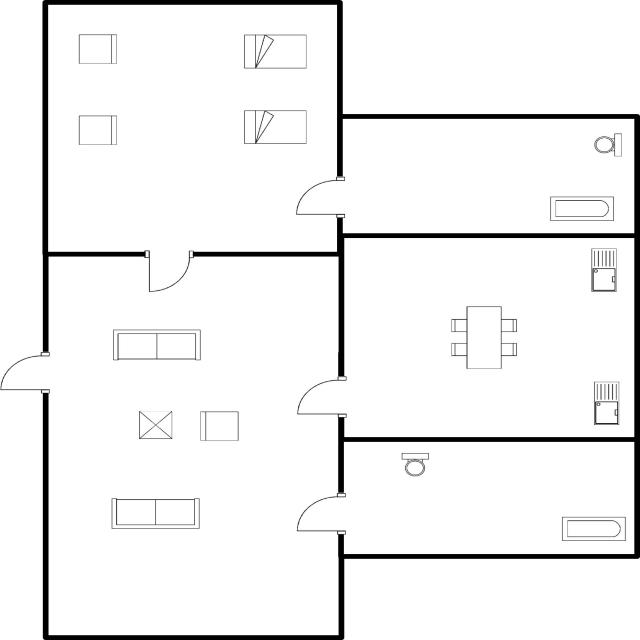bed: (238, 106, 314, 148), (240, 30, 311, 74)
coffee_table: (135, 406, 178, 443)
dining_table: (442, 301, 521, 372)
large_sink: (395, 448, 432, 481), (590, 128, 626, 160)
large_sofa: (106, 324, 206, 366), (103, 494, 204, 534), (73, 30, 122, 70), (74, 111, 121, 149)
sink: (587, 377, 624, 429), (584, 244, 620, 297)
small_sofa: (195, 408, 243, 444)
tub: (555, 512, 629, 546), (545, 191, 619, 224)
